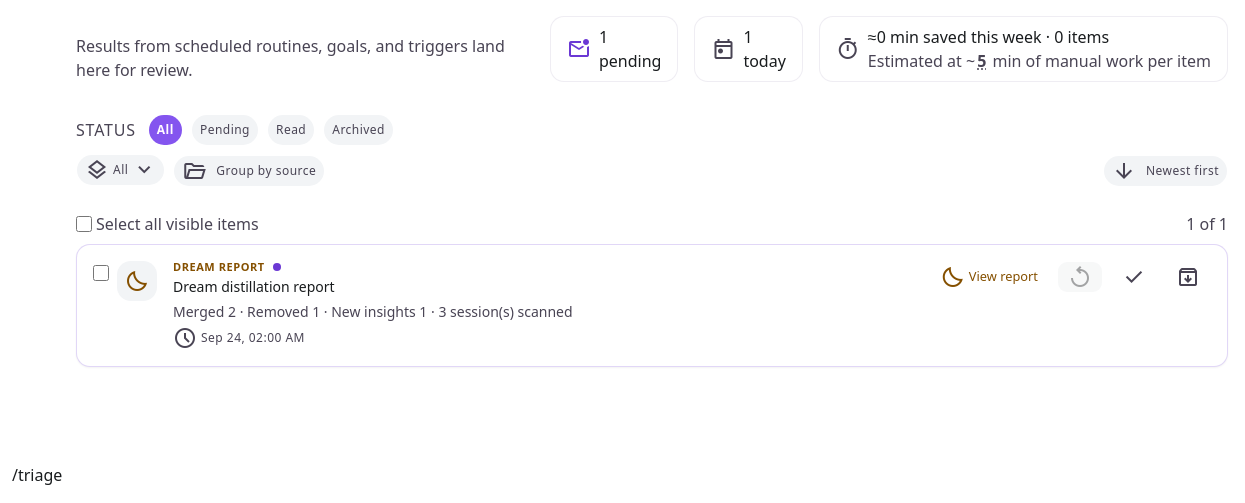
Triage — dream report card action › renders the 查看报告 action and jumps to /memory
The width and height of the screenshot is (1245, 503).
Expected: the text "Dream report" is shown, [173,261,265,272]
Expected: the text "Merged 2 · Removed 1 · New insights 1 · 3 session(s) scanned" is shown, [173,302,573,321]
Click the button with aria-label "View the dream distillation report on the Memory page": (989, 277) [930,263,1049,291]
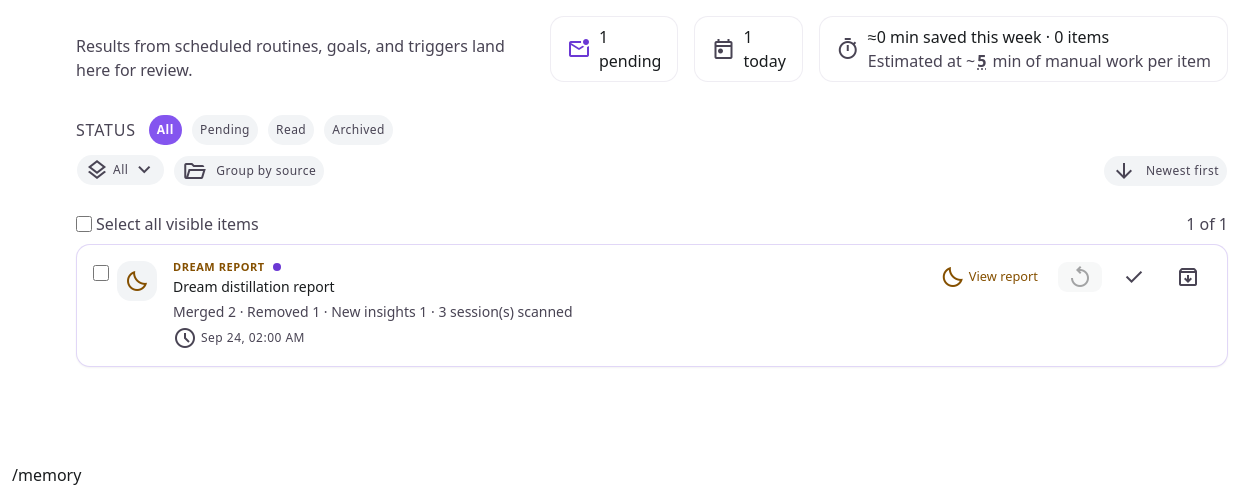
Now the text with test id "triage-location" reads "/memory", box [12,464,81,486]
